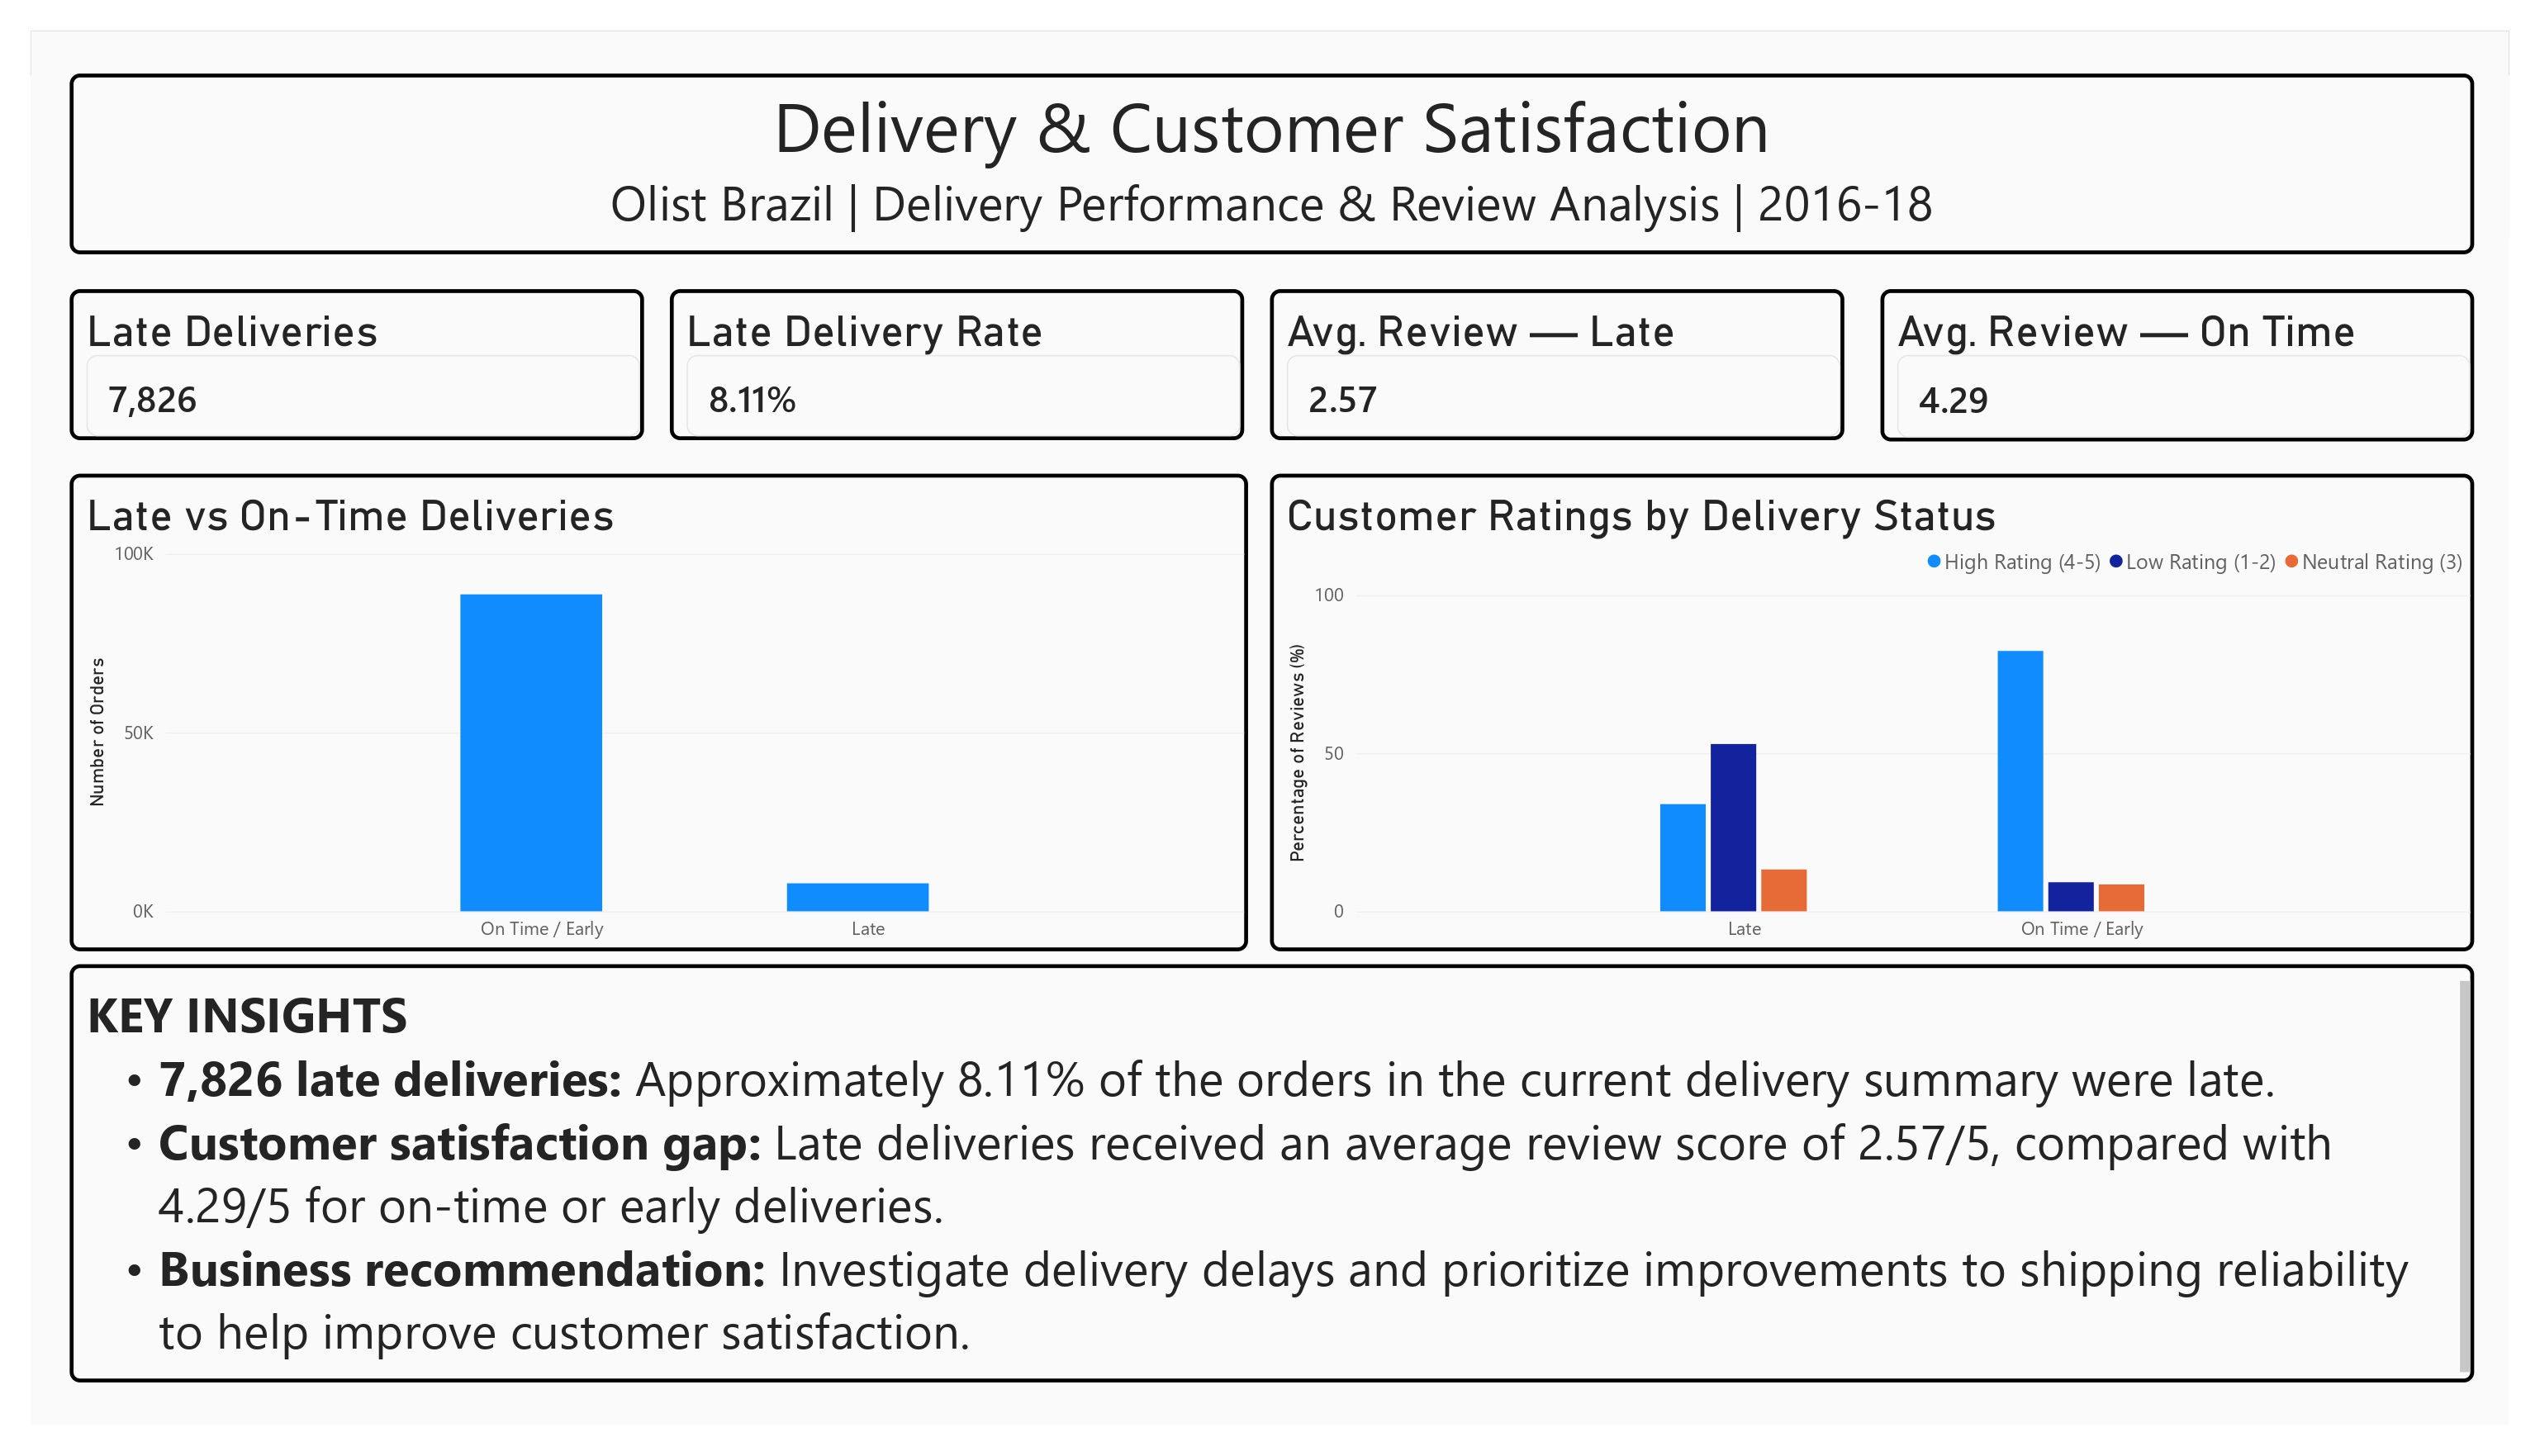

The page's visual inventory and layout, read from the dashboard file:
{"tool":"powerbi","page":{"name":"Delivery & Satisfaction","canvas":[1920,1080],"ordinal":1},"visuals":[{"type":"textbox","box":[30,33.3,1863.3,140],"z":0},{"type":"cardVisual","title":"Late Deliveries","fields":{"Data":["customer_rfm_segments.Late Deliveries Display"]},"box":[30,200,445,116.7],"z":1000},{"type":"cardVisual","title":"Late Delivery Rate","fields":{"Data":["customer_rfm_segments.Late Delivery Rate"]},"box":[495,200,445,116.7],"z":2000},{"type":"cardVisual","title":"Avg. Review — Late","fields":{"Data":["Avg(delivery_performance_summary.average_review_score)"]},"box":[960,200,445,116.7],"z":3000},{"type":"cardVisual","title":"Avg. Review — On Time","fields":{"Data":["Avg(delivery_performance_summary.average_review_score)"]},"box":[1432.5,200,460,117.5],"z":4000},{"type":"clusteredColumnChart","title":"Late vs On-Time Deliveries","fields":{"Category":["delivery_performance_summary.delivery_status"],"Y":["Sum(delivery_performance_summary.order_count)"]},"box":[30,343.3,913.3,370],"z":4001},{"type":"clusteredColumnChart","title":"Customer Ratings by Delivery Status","fields":{"Category":["delivery_rating_comparison.delivery_status"],"Series":["delivery_rating_comparison.review_category"],"Y":["Sum(delivery_rating_comparison.percentage)"]},"box":[960,343.3,933.3,370],"z":4002},{"type":"textbox","box":[30,723.3,1863.3,323.3],"z":4003}]}

Visuals, with their boxes on the page's 1920x1080 design canvas (x1, y1, x2, y2). These are canvas units, not pixel positions in the 2540x1456 screenshot, which may show the page scaled, cropped or inside an application window:
textbox: detection(30, 33, 1893, 173)
"Late Deliveries" cardVisual: detection(30, 200, 475, 317)
"Late Delivery Rate" cardVisual: detection(495, 200, 940, 317)
"Avg. Review — Late" cardVisual: detection(960, 200, 1405, 317)
"Avg. Review — On Time" cardVisual: detection(1432, 200, 1892, 318)
"Late vs On-Time Deliveries" clusteredColumnChart: detection(30, 343, 943, 713)
"Customer Ratings by Delivery Status" clusteredColumnChart: detection(960, 343, 1893, 713)
textbox: detection(30, 723, 1893, 1047)
